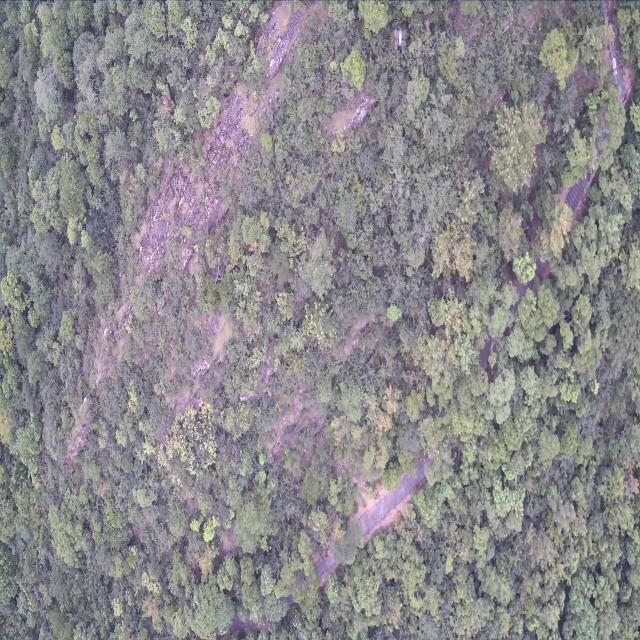UAV: (394, 27, 408, 50)
